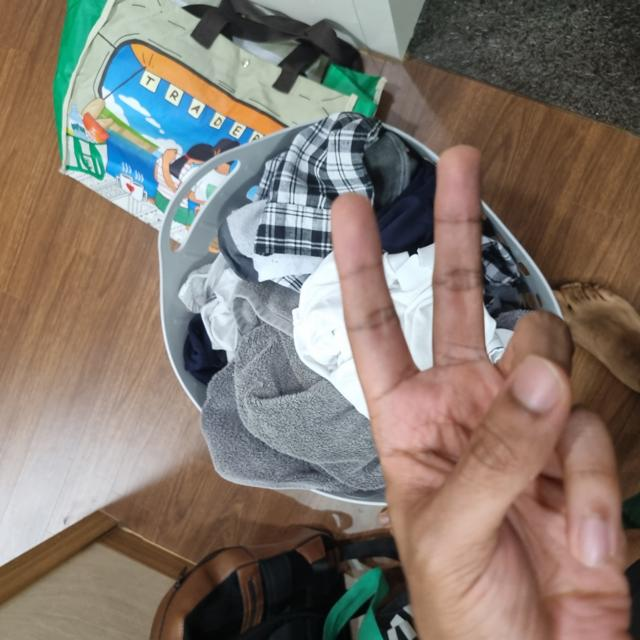Scissors: (0, 335, 490, 636)
